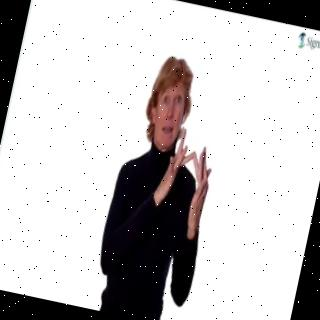Internet: (86, 45, 239, 320)
